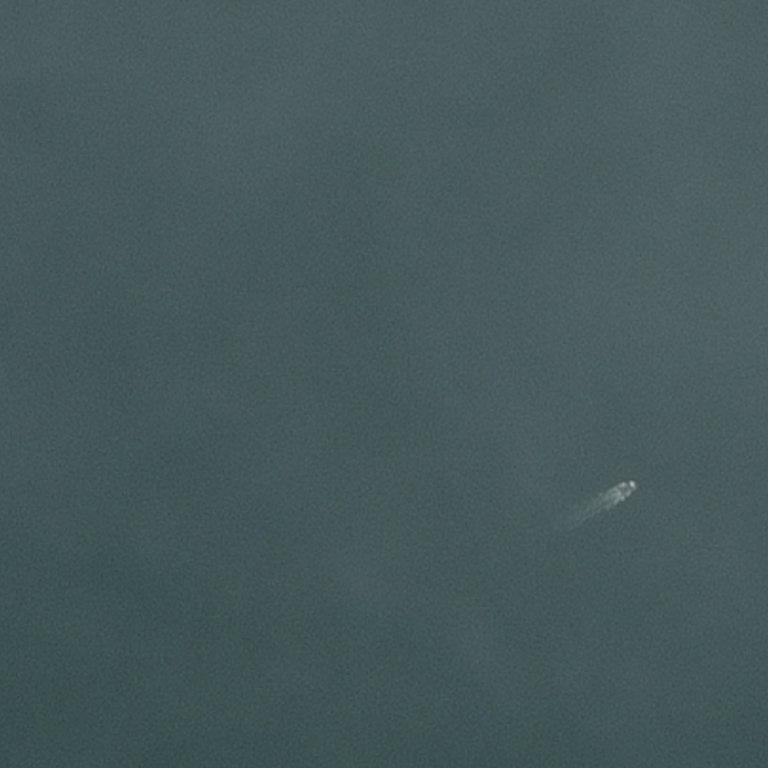ship: (601, 478, 633, 504), (619, 497, 626, 503), (613, 464, 618, 471), (635, 482, 638, 486)
